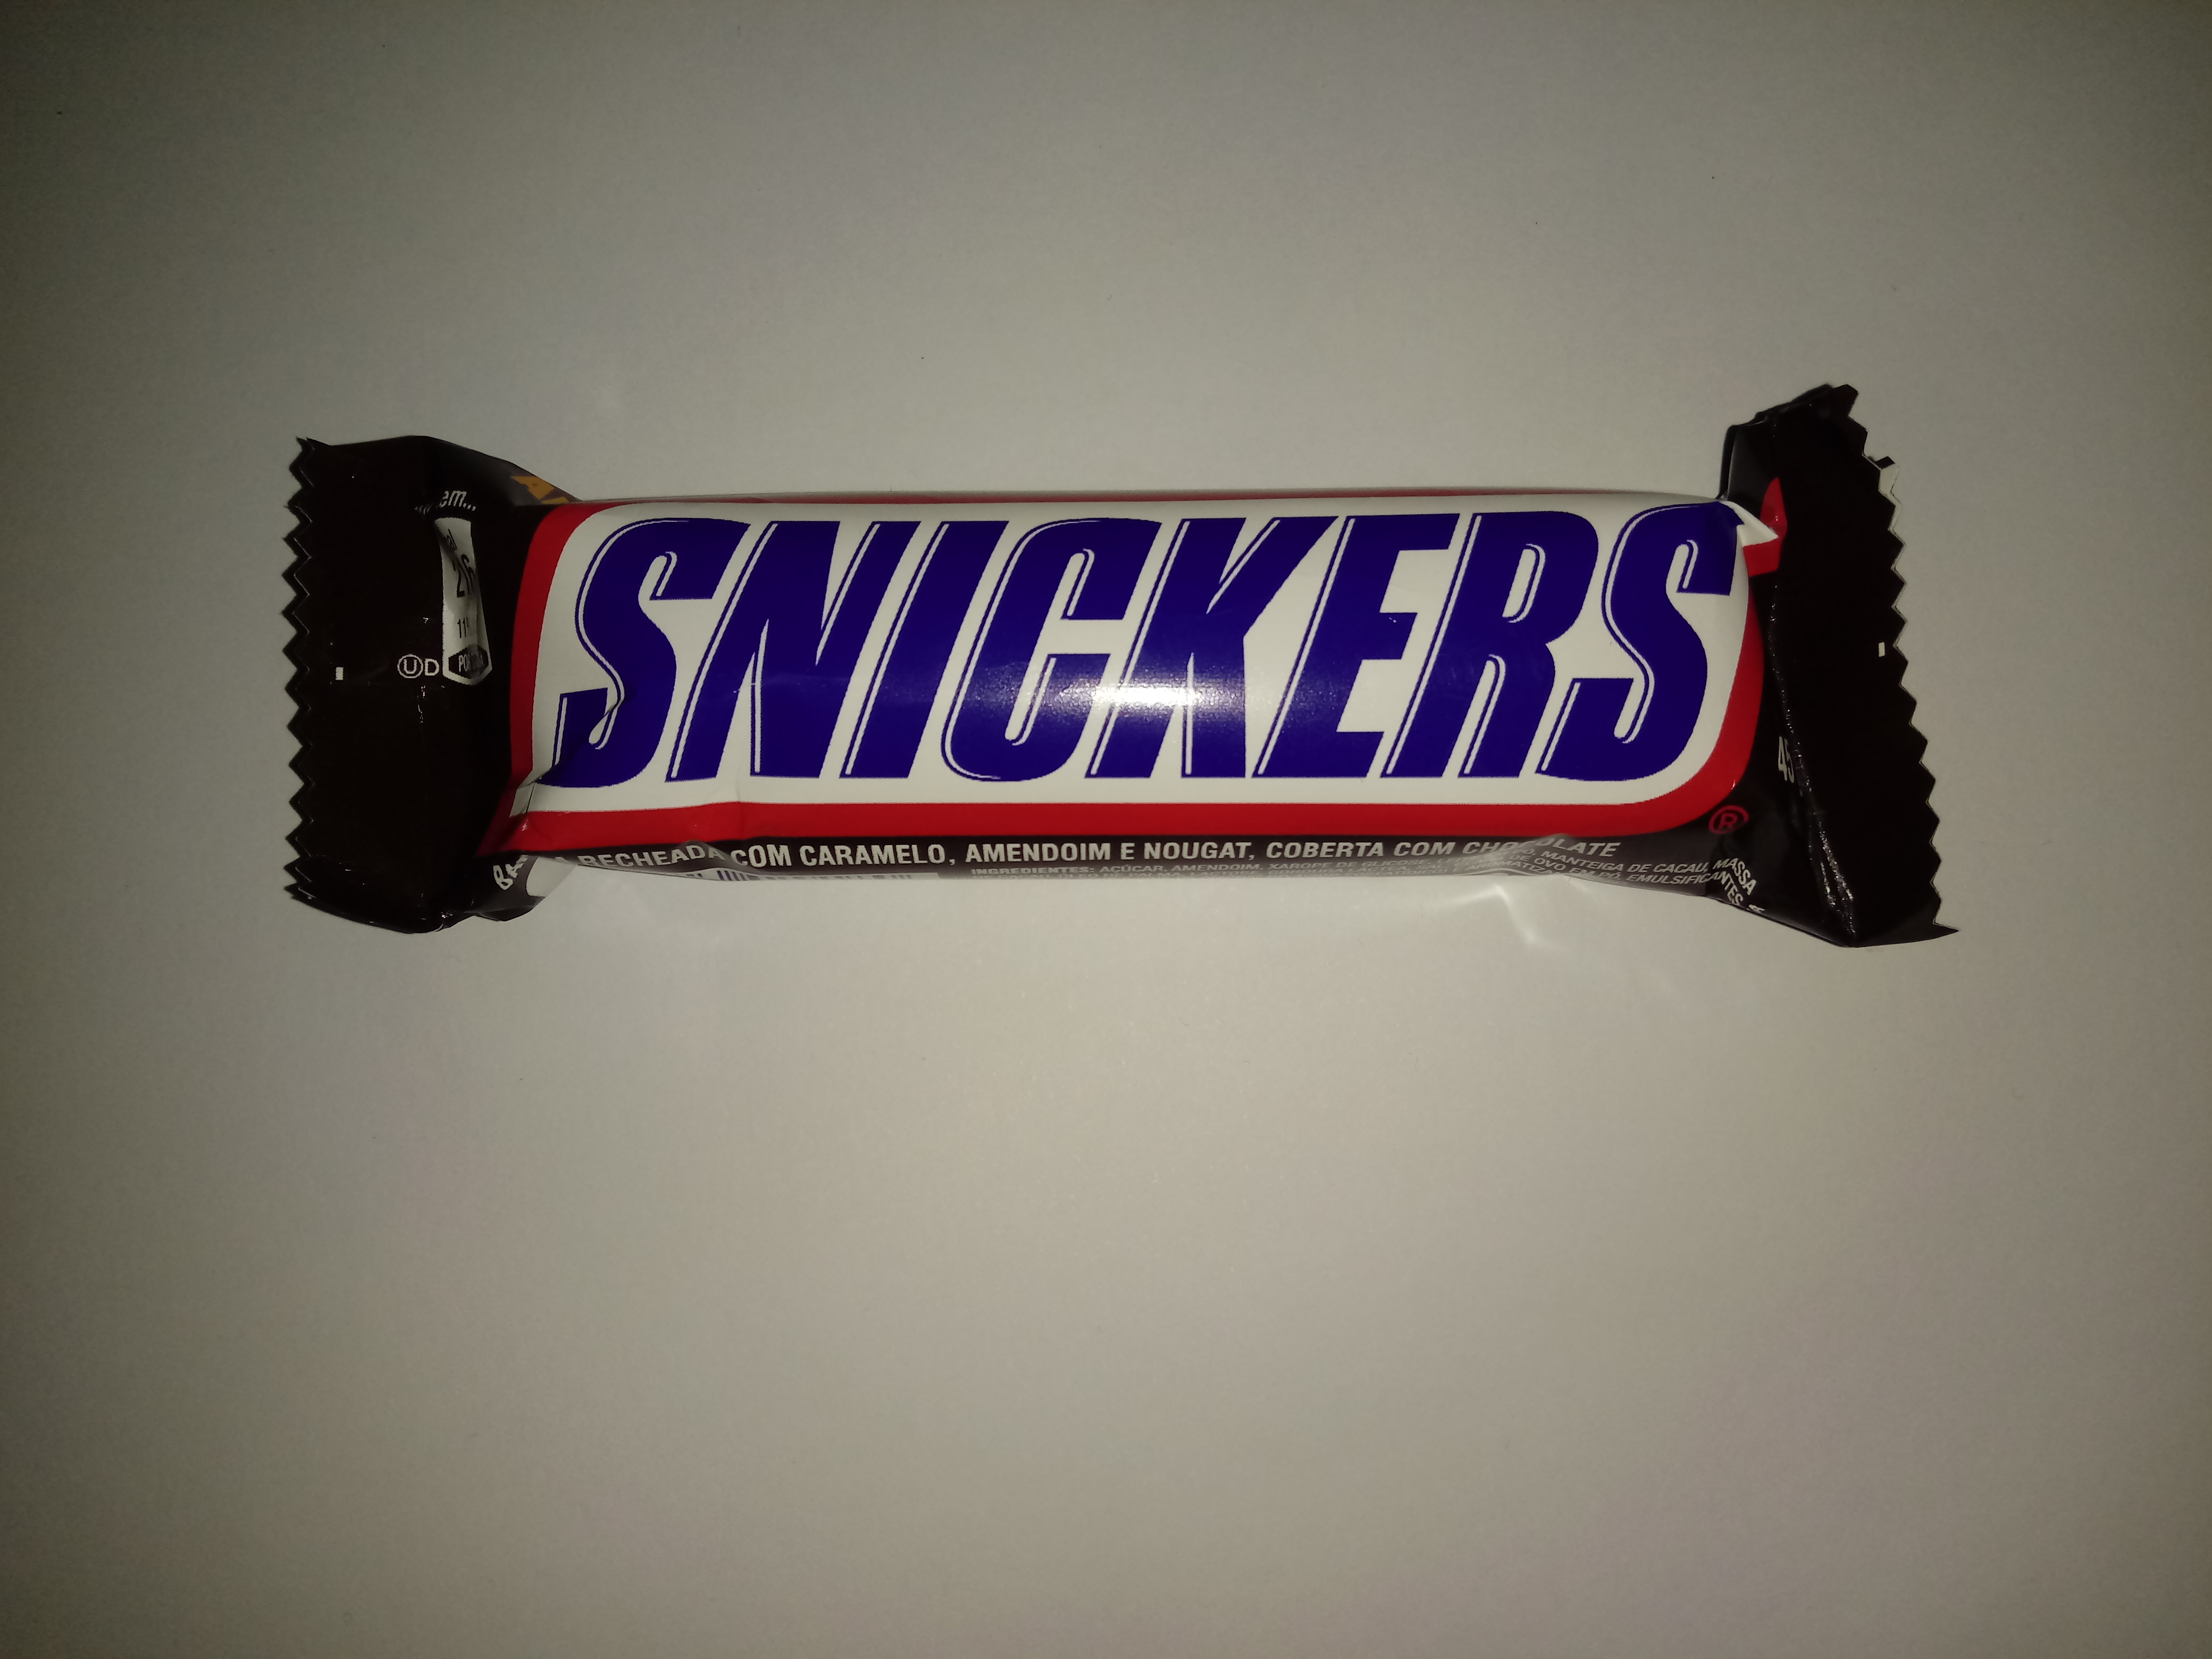snickers: (251, 373, 1993, 974)
